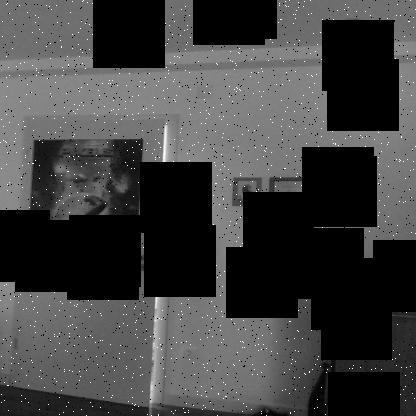Porte: (10, 115, 183, 416)
